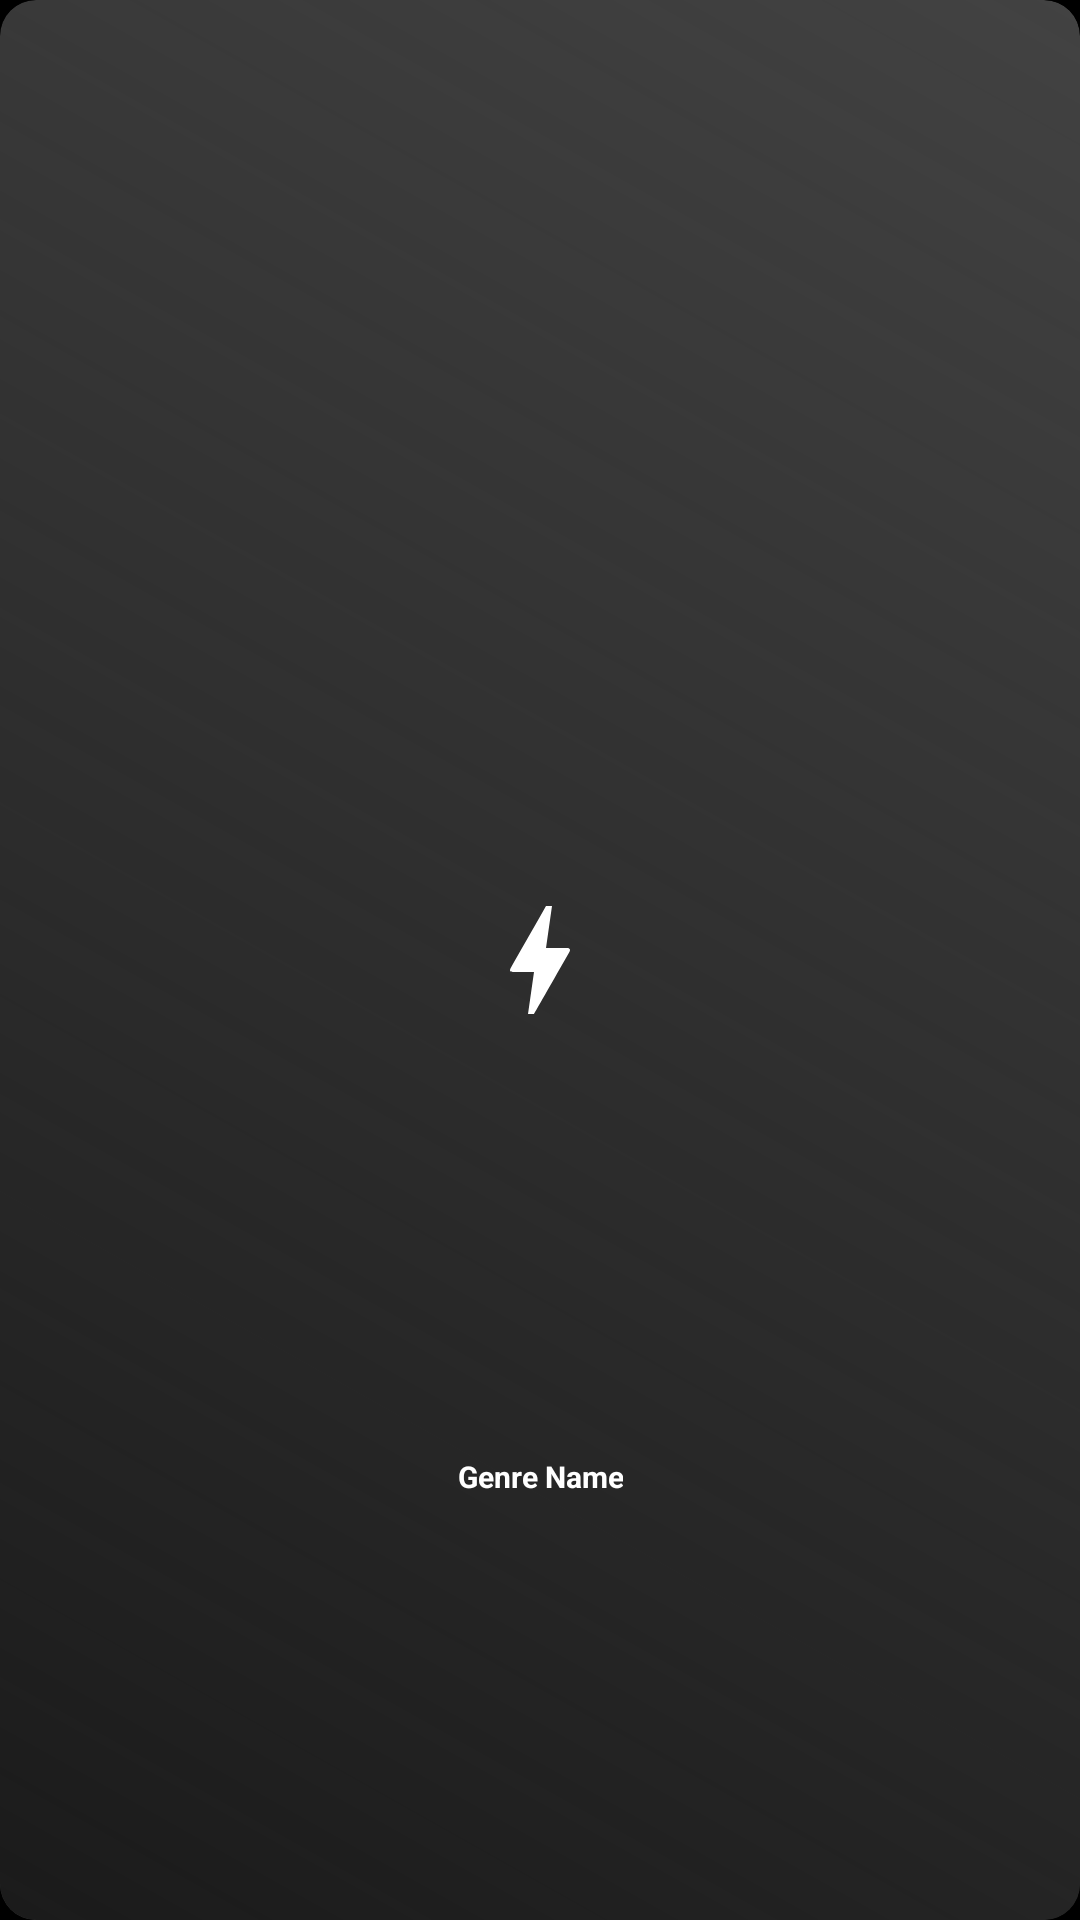

Named icons in this screenshot (1080px×1920px) and their bounding boxes, {"left": x1, "top": y1, "right": x2, "bottom": y2}:
bolt: {"left": 510, "top": 906, "right": 570, "bottom": 1014}
